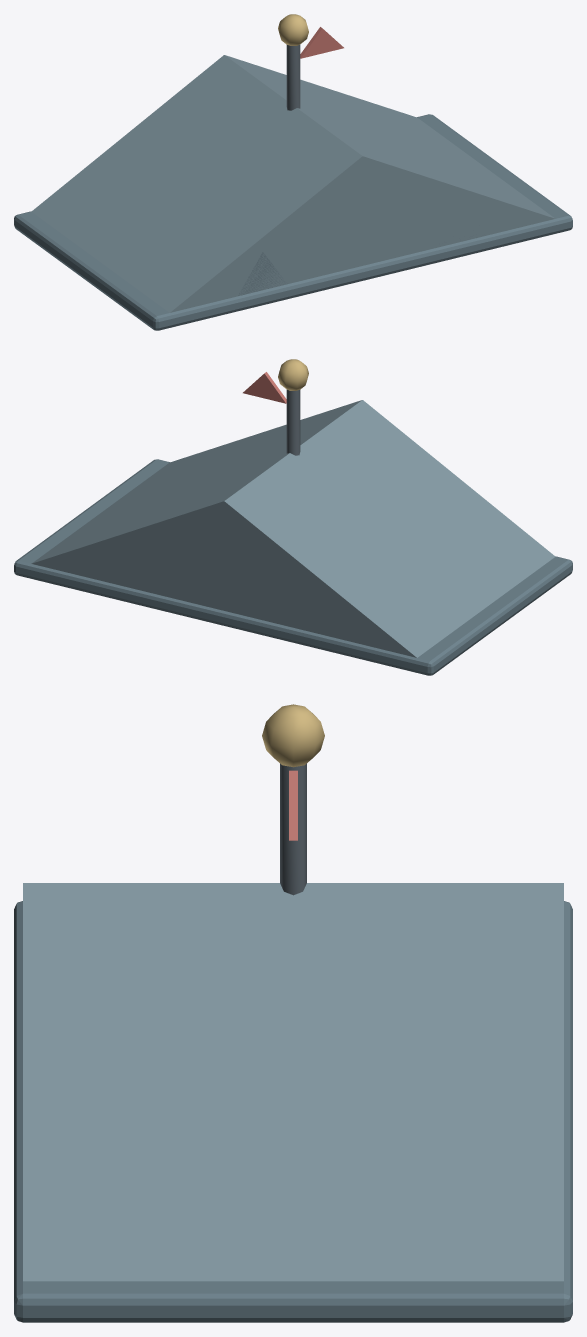
The model's file is tower_roof.glb.
3 renders of one model, top to bottom at view 1: azimuth 30°, elevation 25°; view 2: azimuth 150°, elevation 25°; view 3: azimuth 270°, elevation 25°, orthographic. The views are drawn at different scales.
Visible parts, largest first — view 1: tower_roof_Palette; view 2: tower_roof_Palette; view 3: tower_roof_Palette.
Boxes of the visible parts, <box> form: tower_roof_Palette: <box>14,14,572,330</box>; tower_roof_Palette: <box>14,359,572,675</box>; tower_roof_Palette: <box>14,704,572,1322</box>.
Size of the model in its own units: 2.1 by 1.02 by 1.24.
